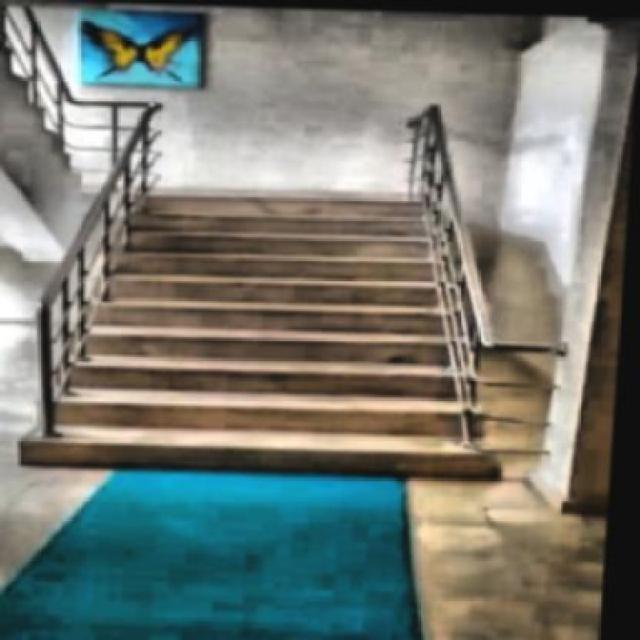stair: (16, 192, 518, 485)
